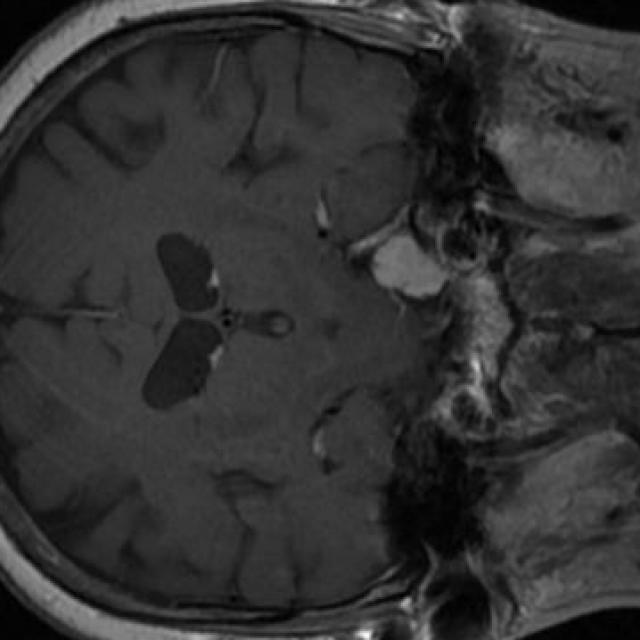meningioma: (374, 234, 447, 301)
